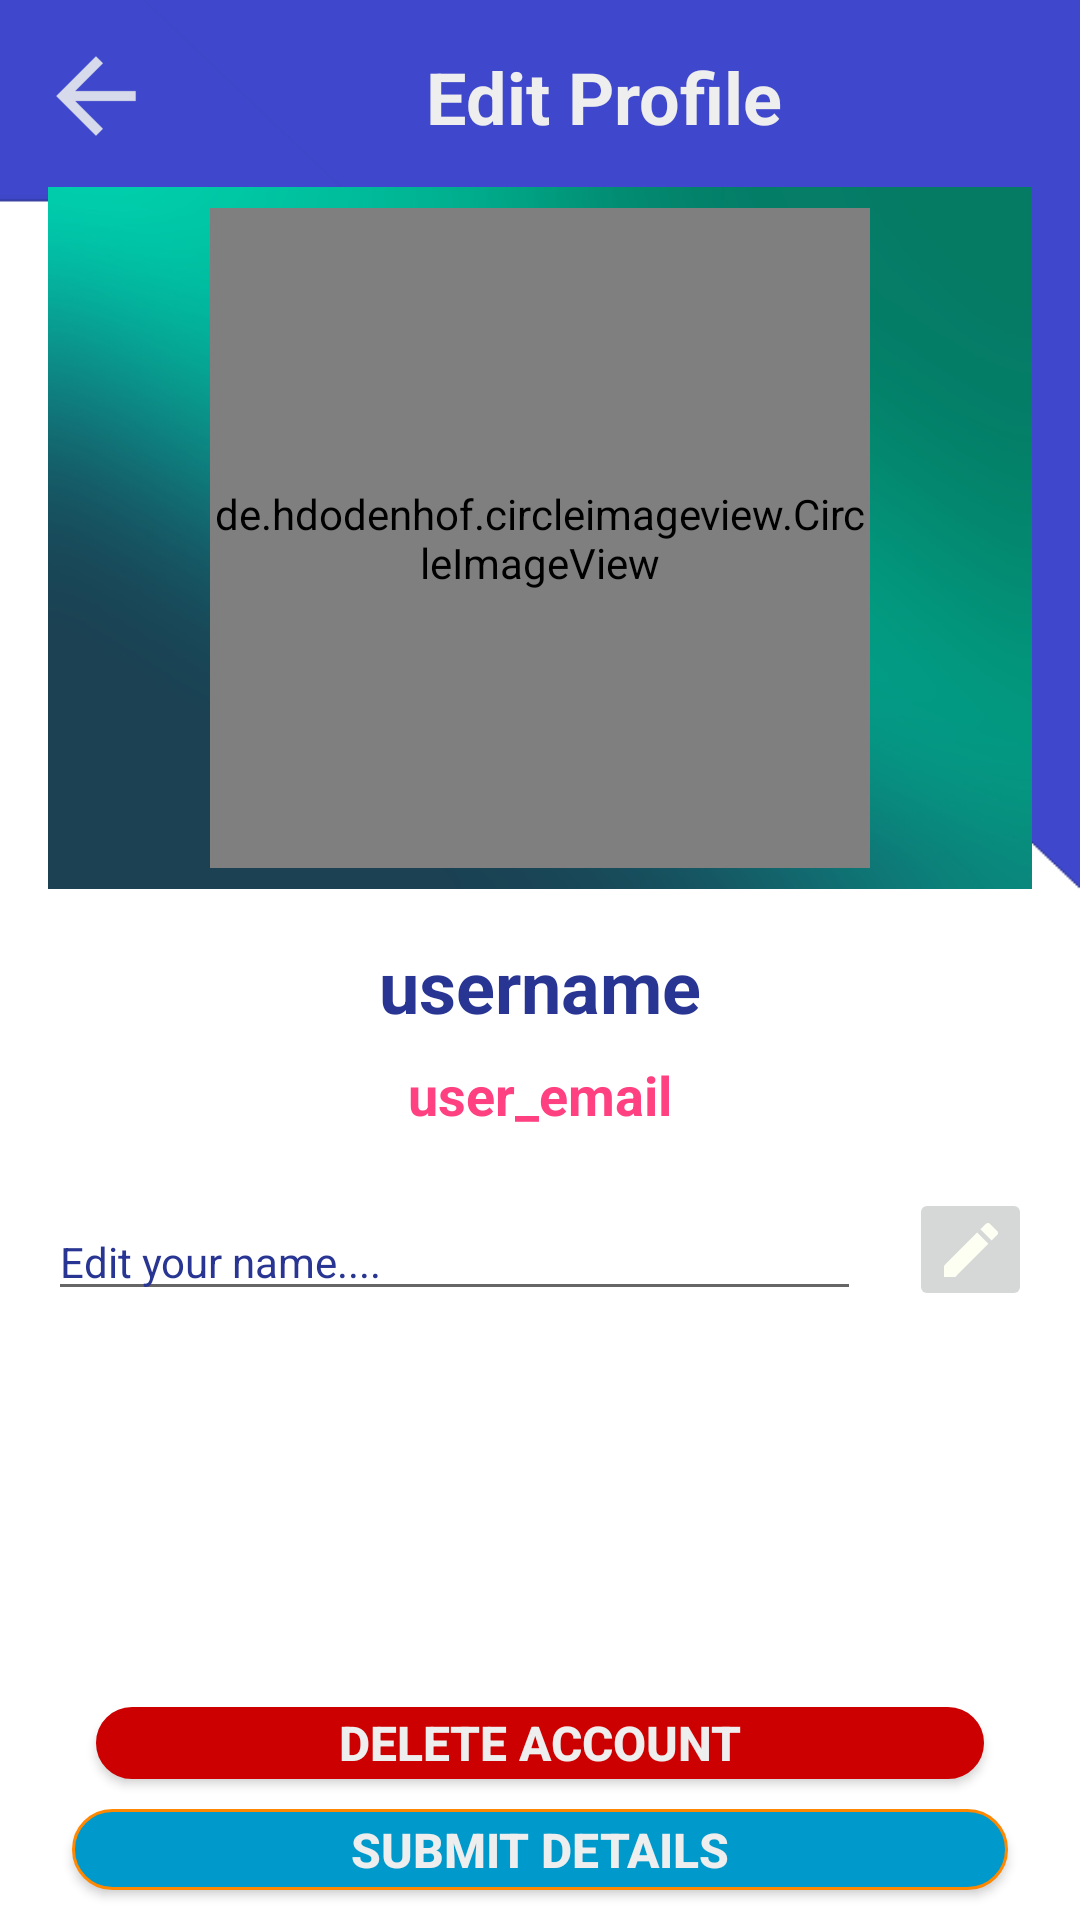

Icons on this 1080px x 1920px Android screen, each with its box as [x1,y1,x2,y2]:
back arrow: [56,56,136,136]
